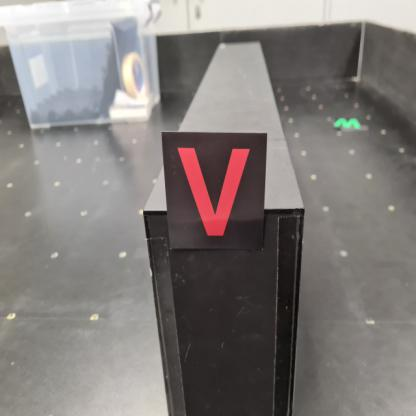v: (161, 130, 269, 254)
